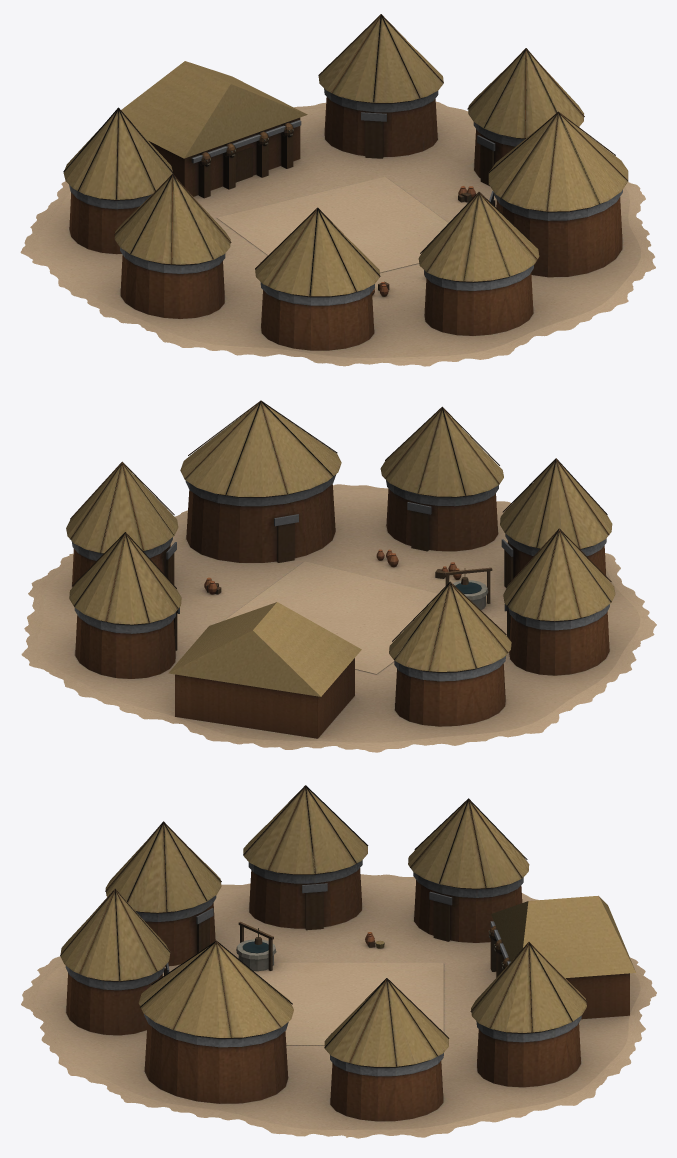
Rendered from bronze-town-small-b-westafrica-ff2cdad4.glb.
3 views of the same model, one above another, from view 1: azimuth 30°, elevation 25°; view 2: azimuth 150°, elevation 25°; view 3: azimuth 270°, elevation 25° (orthographic).
Parts seen in each view (by area): view 1: LOD0; view 2: LOD0; view 3: LOD0.
Boxes of the visible parts, left/top/right/bottom form: LOD0: left=20, top=14, right=655, bottom=366; LOD0: left=21, top=400, right=656, bottom=752; LOD0: left=21, top=785, right=656, bottom=1138.
Size of what is drawn, in the model's own units: 3.94 by 0.9421 by 4.
Materials: 3 (3 with a texture image).
